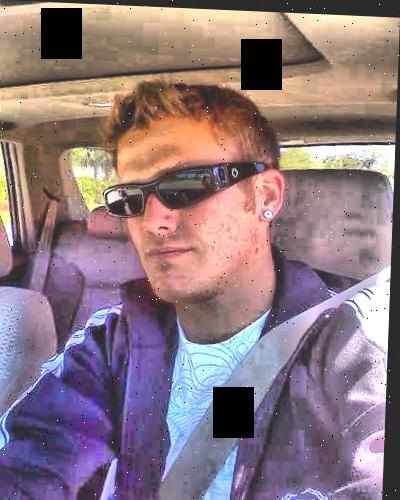seatbelt: (174, 252, 384, 481)
